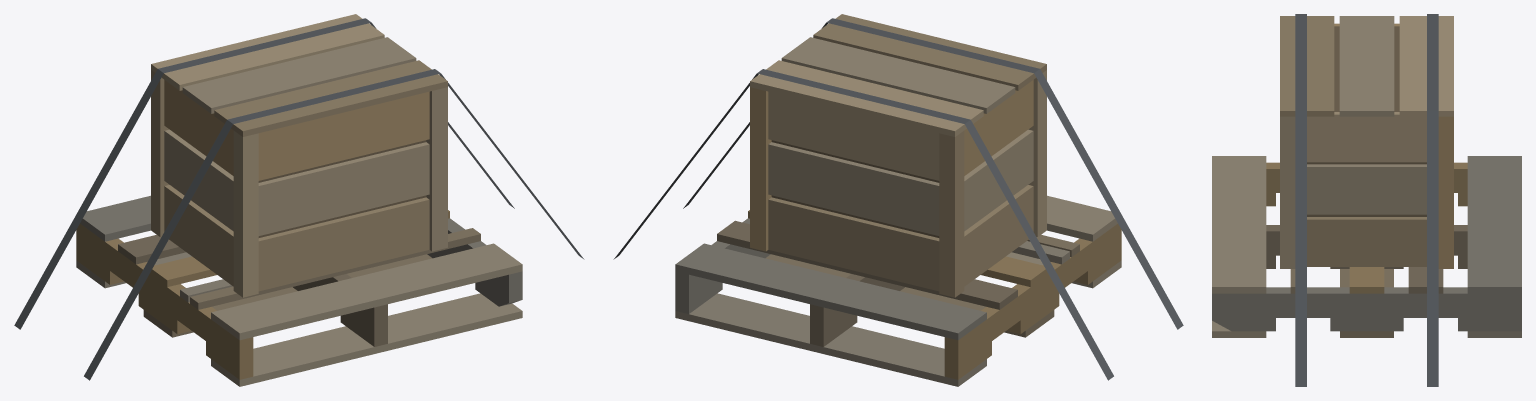
The model's file is small-crate-pallet.glb.
3 views of the same model, side by side, from view 1: azimuth 30°, elevation 25°; view 2: azimuth 150°, elevation 25°; view 3: azimuth 270°, elevation 25° (orthographic). The views are drawn at different scales.
Visible parts, largest first — view 1: Crate, PalletSmall, SmallCratePallet_Strap; view 2: Crate, PalletSmall, SmallCratePallet_Strap; view 3: Crate, PalletSmall, SmallCratePallet_Strap.
Part boxes in pixels (x1,y1,x2,y2): Crate: [151, 14, 447, 297]; PalletSmall: [76, 195, 522, 386]; SmallCratePallet_Strap: [14, 18, 584, 380]; Crate: [750, 14, 1046, 297]; PalletSmall: [675, 195, 1121, 386]; SmallCratePallet_Strap: [613, 18, 1183, 380]; Crate: [1280, 16, 1453, 268]; PalletSmall: [1212, 156, 1521, 337]; SmallCratePallet_Strap: [1295, 14, 1438, 386].
Bounding box in the file's own units: 1.4 × 0.599 × 0.8.
